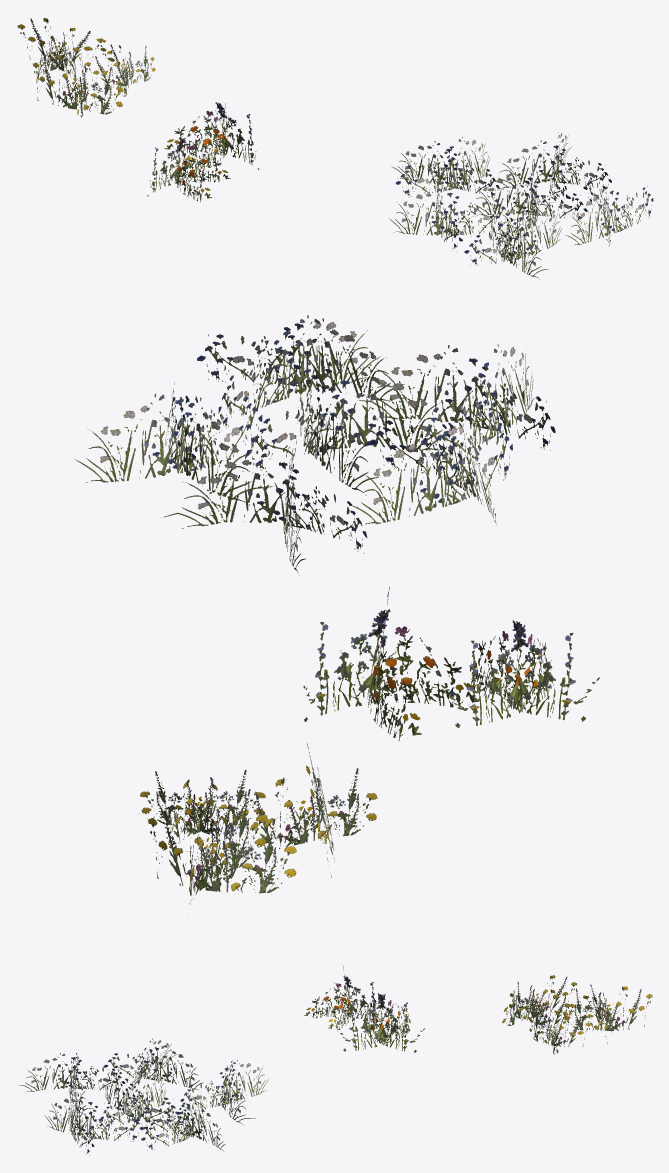
Rendered from meadow_flowers.glb.
3 views of the same model, one above another, from view 1: azimuth 30°, elevation 25°; view 2: azimuth 150°, elevation 25°; view 3: azimuth 270°, elevation 25° (orthographic). The views are drawn at different scales.
Parts seen in each view (by area): view 1: Grass_Reeds_LOD0_GrassBase_0; view 2: Grass_Reeds_LOD0_GrassBase_0; view 3: Grass_Reeds_LOD0_GrassBase_0.
Boxes of the visible parts, box(x1,y1,x2,y2) form: Grass_Reeds_LOD0_GrassBase_0: box(17, 18, 653, 279); Grass_Reeds_LOD0_GrassBase_0: box(75, 315, 599, 918); Grass_Reeds_LOD0_GrassBase_0: box(19, 964, 652, 1155).
Bounding box in the file's own units: 2.44 × 0.3997 × 4.15.
Materials: 1 (1 with a texture image).
